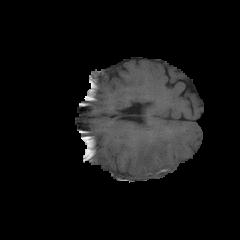glioma: (127, 126, 195, 176)
